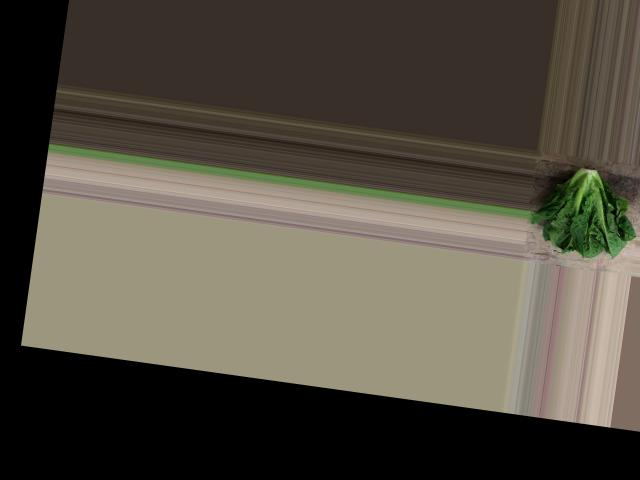lettuce: (526, 154, 640, 266)
